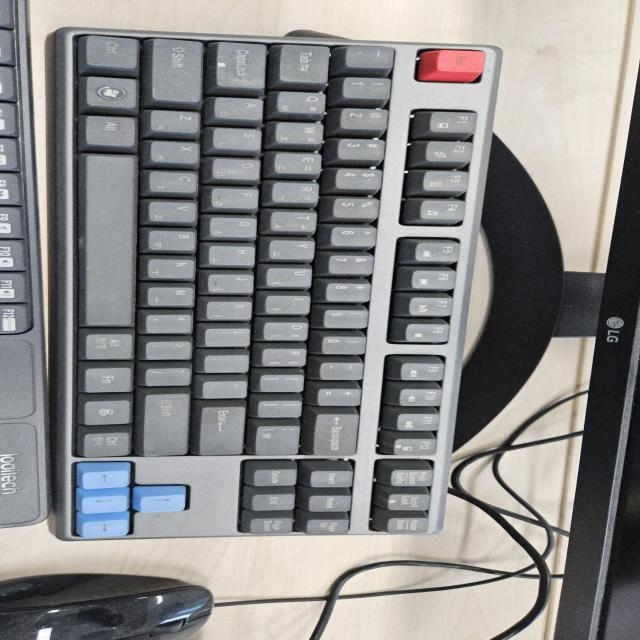Keyboard: (38, 23, 503, 541)
Mouse: (1, 572, 216, 638)
